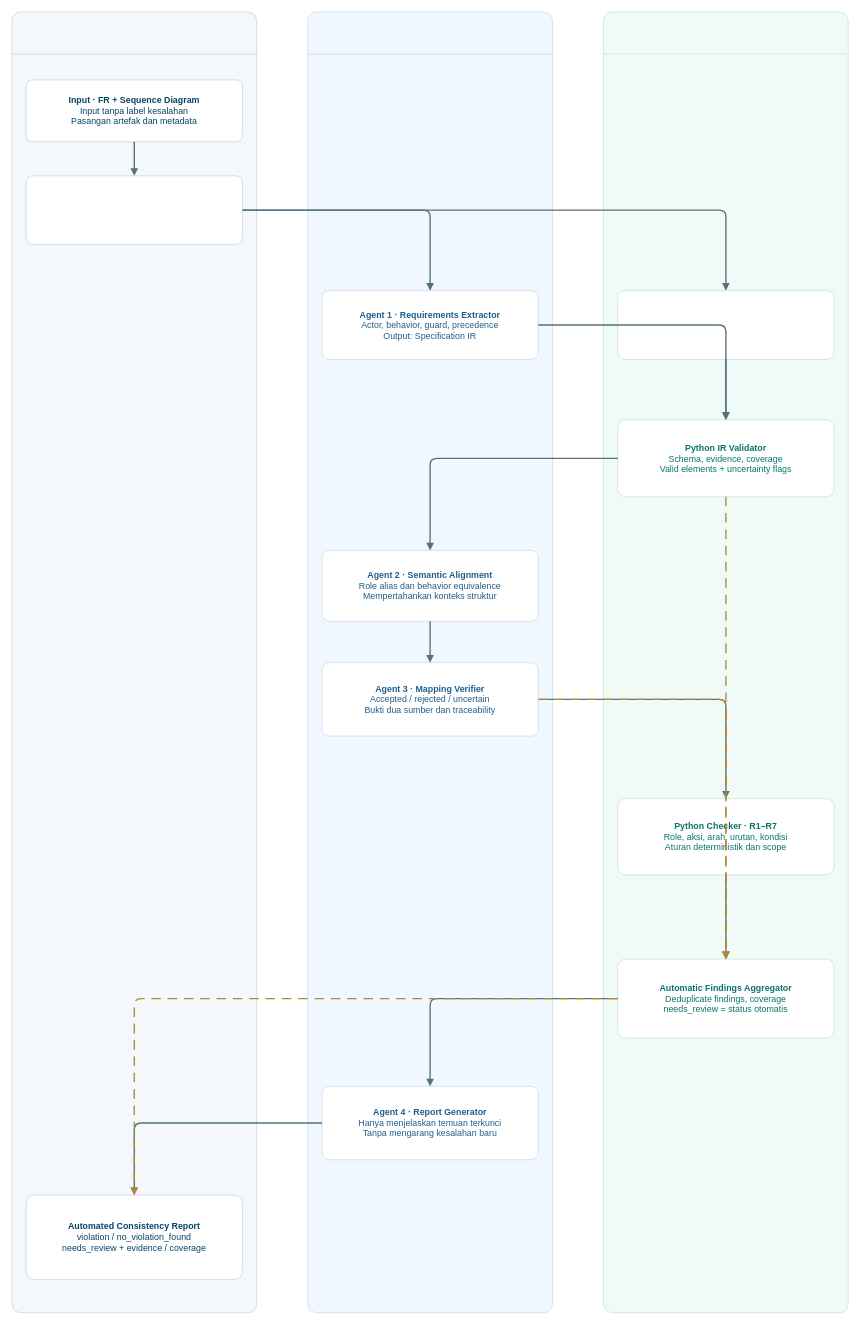
Image size: 860x1325. Some labels were removed from this diagram. Here are the shapes that lost their labels. From the top down, the box of each, then its label:
(26, 175, 242, 244): Scenario Contract Scope, tingkat abstraksi dan role Versi aturan R1-R7
(617, 290, 834, 359): Mermaid Parser Participant, message, alt / opt / loop Output: Diagram IR
(11, 11, 257, 1313): 01 DATASET & ORCHESTRATOR
(307, 11, 552, 1313): 02 LLM AGENTS
(603, 11, 848, 1313): 03 PYTHON SERVICES
